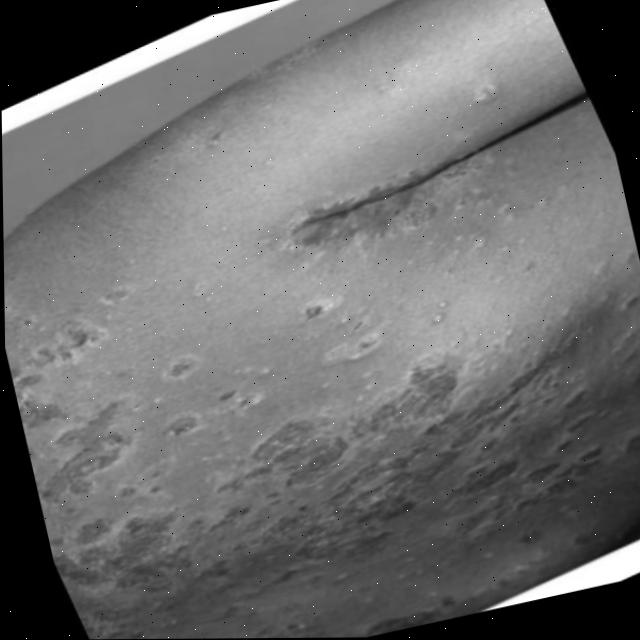Eczema: (25, 195, 640, 640)
